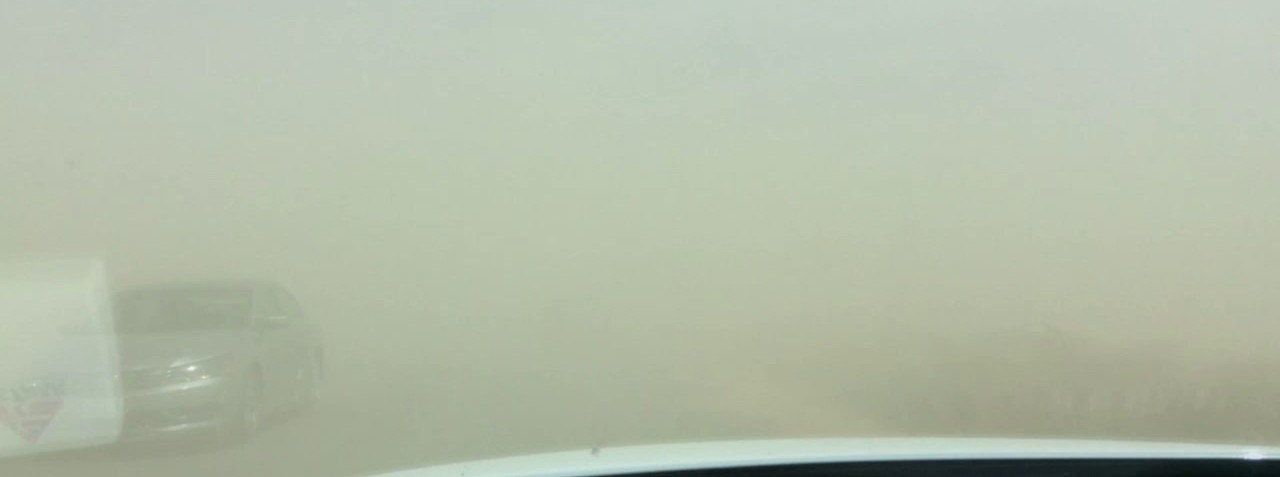car: (81, 272, 319, 448)
